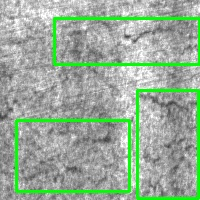crazing: (17, 120, 129, 191), (54, 18, 199, 64), (137, 90, 198, 198)
